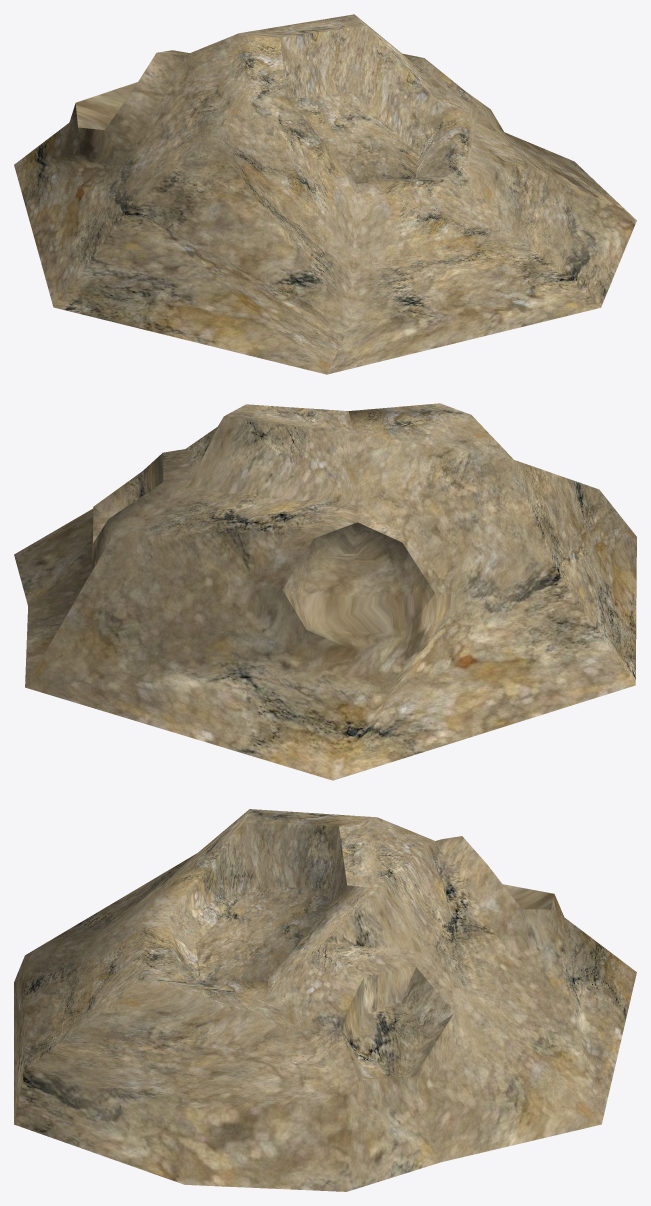
Rendered from pir_m_prp_scorpion_nest_cave.fbx.
3 renders of one model, top to bottom at view 1: azimuth 30°, elevation 25°; view 2: azimuth 150°, elevation 25°; view 3: azimuth 270°, elevation 25°, orthographic. The views are drawn at different scales.
Parts seen in each view (by area): view 1: nest; view 2: nest; view 3: nest.
Part boxes in pixels (x1=…): nest: x1=14, y1=14, x2=636, y2=374; nest: x1=14, y1=403, x2=636, y2=780; nest: x1=14, y1=809, x2=636, y2=1191.
Size of the model in its own units: 1469 by 517 by 1380.
Materials: 1 (1 with a texture image).
